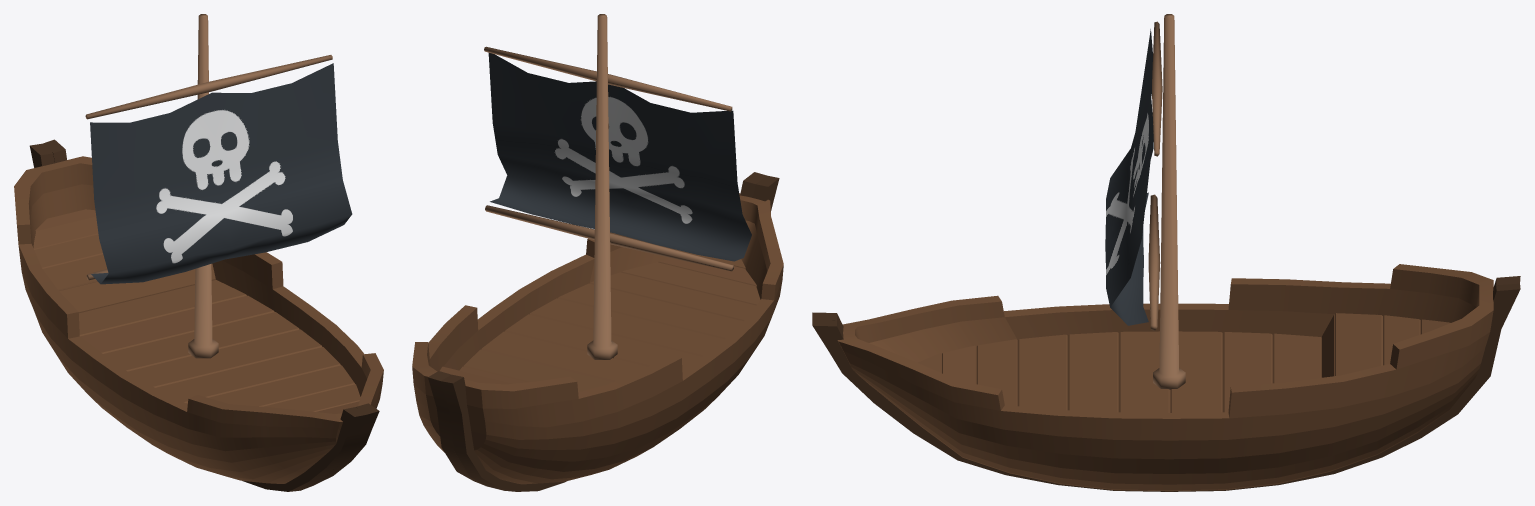
File: Boet4.fbx
The picture shows the model from 3 angles, left to right: view 1: azimuth 30°, elevation 25°; view 2: azimuth 150°, elevation 25°; view 3: azimuth 270°, elevation 25°; orthographic projection. The views are drawn at different scales.
Parts seen in each view (by area): view 1: Hull, Sail, Sail.001, Keel, Mast2; view 2: Hull, Sail, Sail.001, Keel, Mast2; view 3: Hull, Sail, Keel, Mast2, Sail.001.
Boxes of the visible parts, bbox=[...] form: Hull: bbox=[14, 14, 383, 483]; Sail: bbox=[90, 63, 352, 284]; Sail.001: bbox=[91, 66, 351, 283]; Keel: bbox=[29, 139, 379, 491]; Mast2: bbox=[85, 55, 332, 280]; Hull: bbox=[412, 14, 783, 484]; Sail: bbox=[488, 53, 751, 261]; Sail.001: bbox=[489, 54, 751, 261]; Keel: bbox=[428, 172, 779, 491]; Mast2: bbox=[484, 46, 733, 271]; Hull: bbox=[837, 14, 1493, 491]; Sail: bbox=[1105, 29, 1153, 325]; Keel: bbox=[812, 276, 1520, 491]; Mast2: bbox=[1148, 21, 1162, 330]; Sail.001: bbox=[1105, 33, 1153, 325].
Size of the model in its own units: 196 by 332 by 451.
